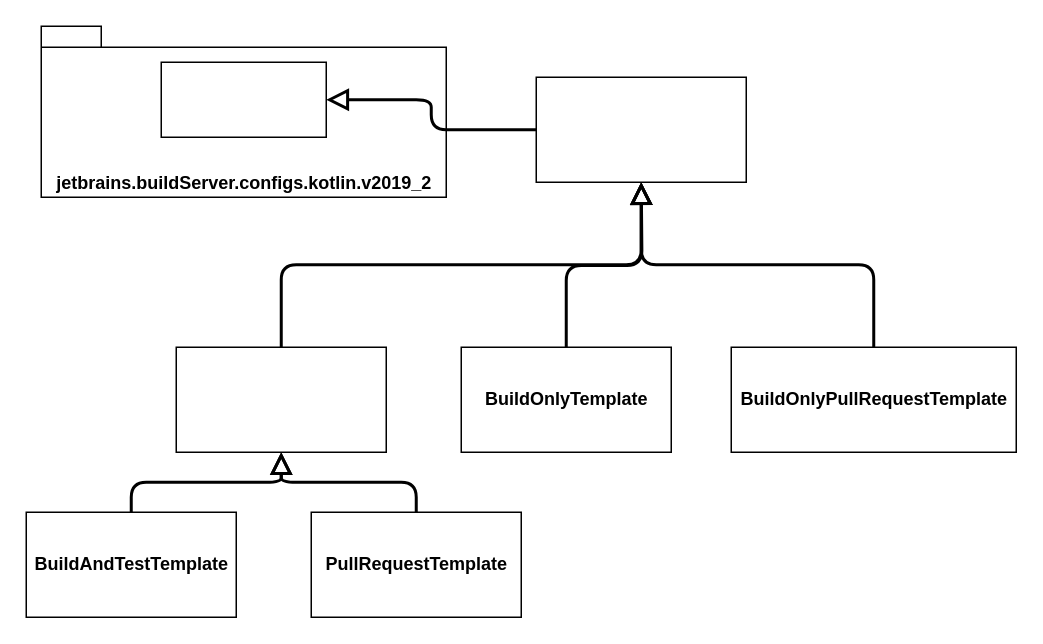
Image size: 1043x644. Some labels were removed from this diagram. Here are the shapes that lost their labels. From the top down, the centre of each, then its label:
At point (243, 99): "Template".
At point (640, 129): "«abstract» BuildBaseClass".
At point (280, 399): "«abstract» BuildAndTestBaseClass".
